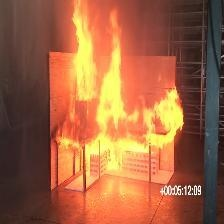fire: (55, 0, 185, 188)
